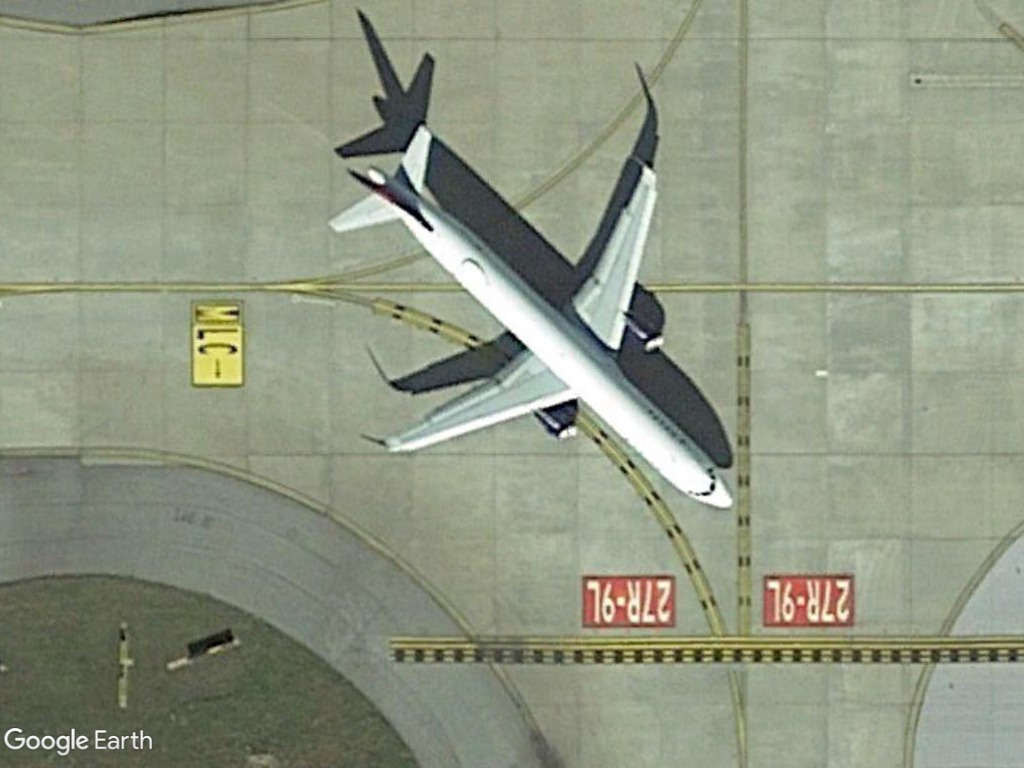airliner: (327, 119, 743, 527)
